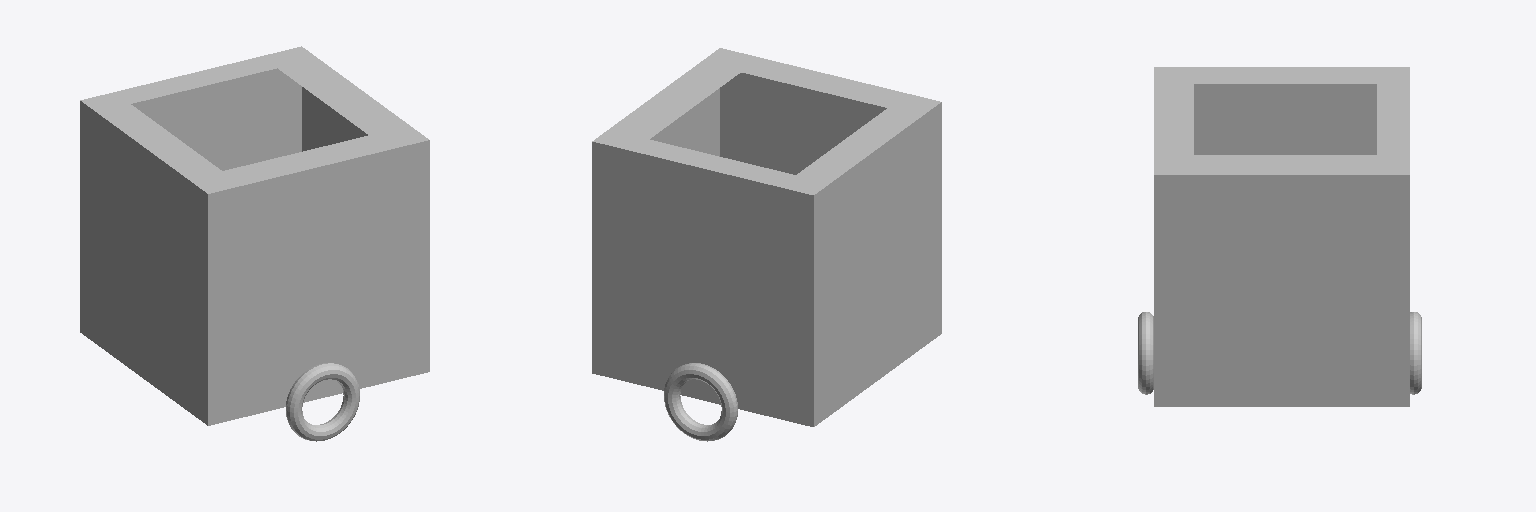
The model's file is rollerCar.obj.
The picture shows the model from 3 angles: view 1: azimuth 30°, elevation 25°; view 2: azimuth 150°, elevation 25°; view 3: azimuth 270°, elevation 25°; orthographic projection.
Visible parts, largest first — view 1: Torus.001; view 2: Torus.001; view 3: Torus.001.
Part boxes in pixels (x1,y1,x2,y2): Torus.001: (80, 46, 429, 441); Torus.001: (592, 48, 941, 441); Torus.001: (1138, 67, 1421, 406).
Size of the model in its own units: 0.9471 by 1.1 by 1.05.